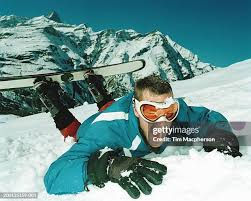snowboard: (1, 57, 146, 92)
